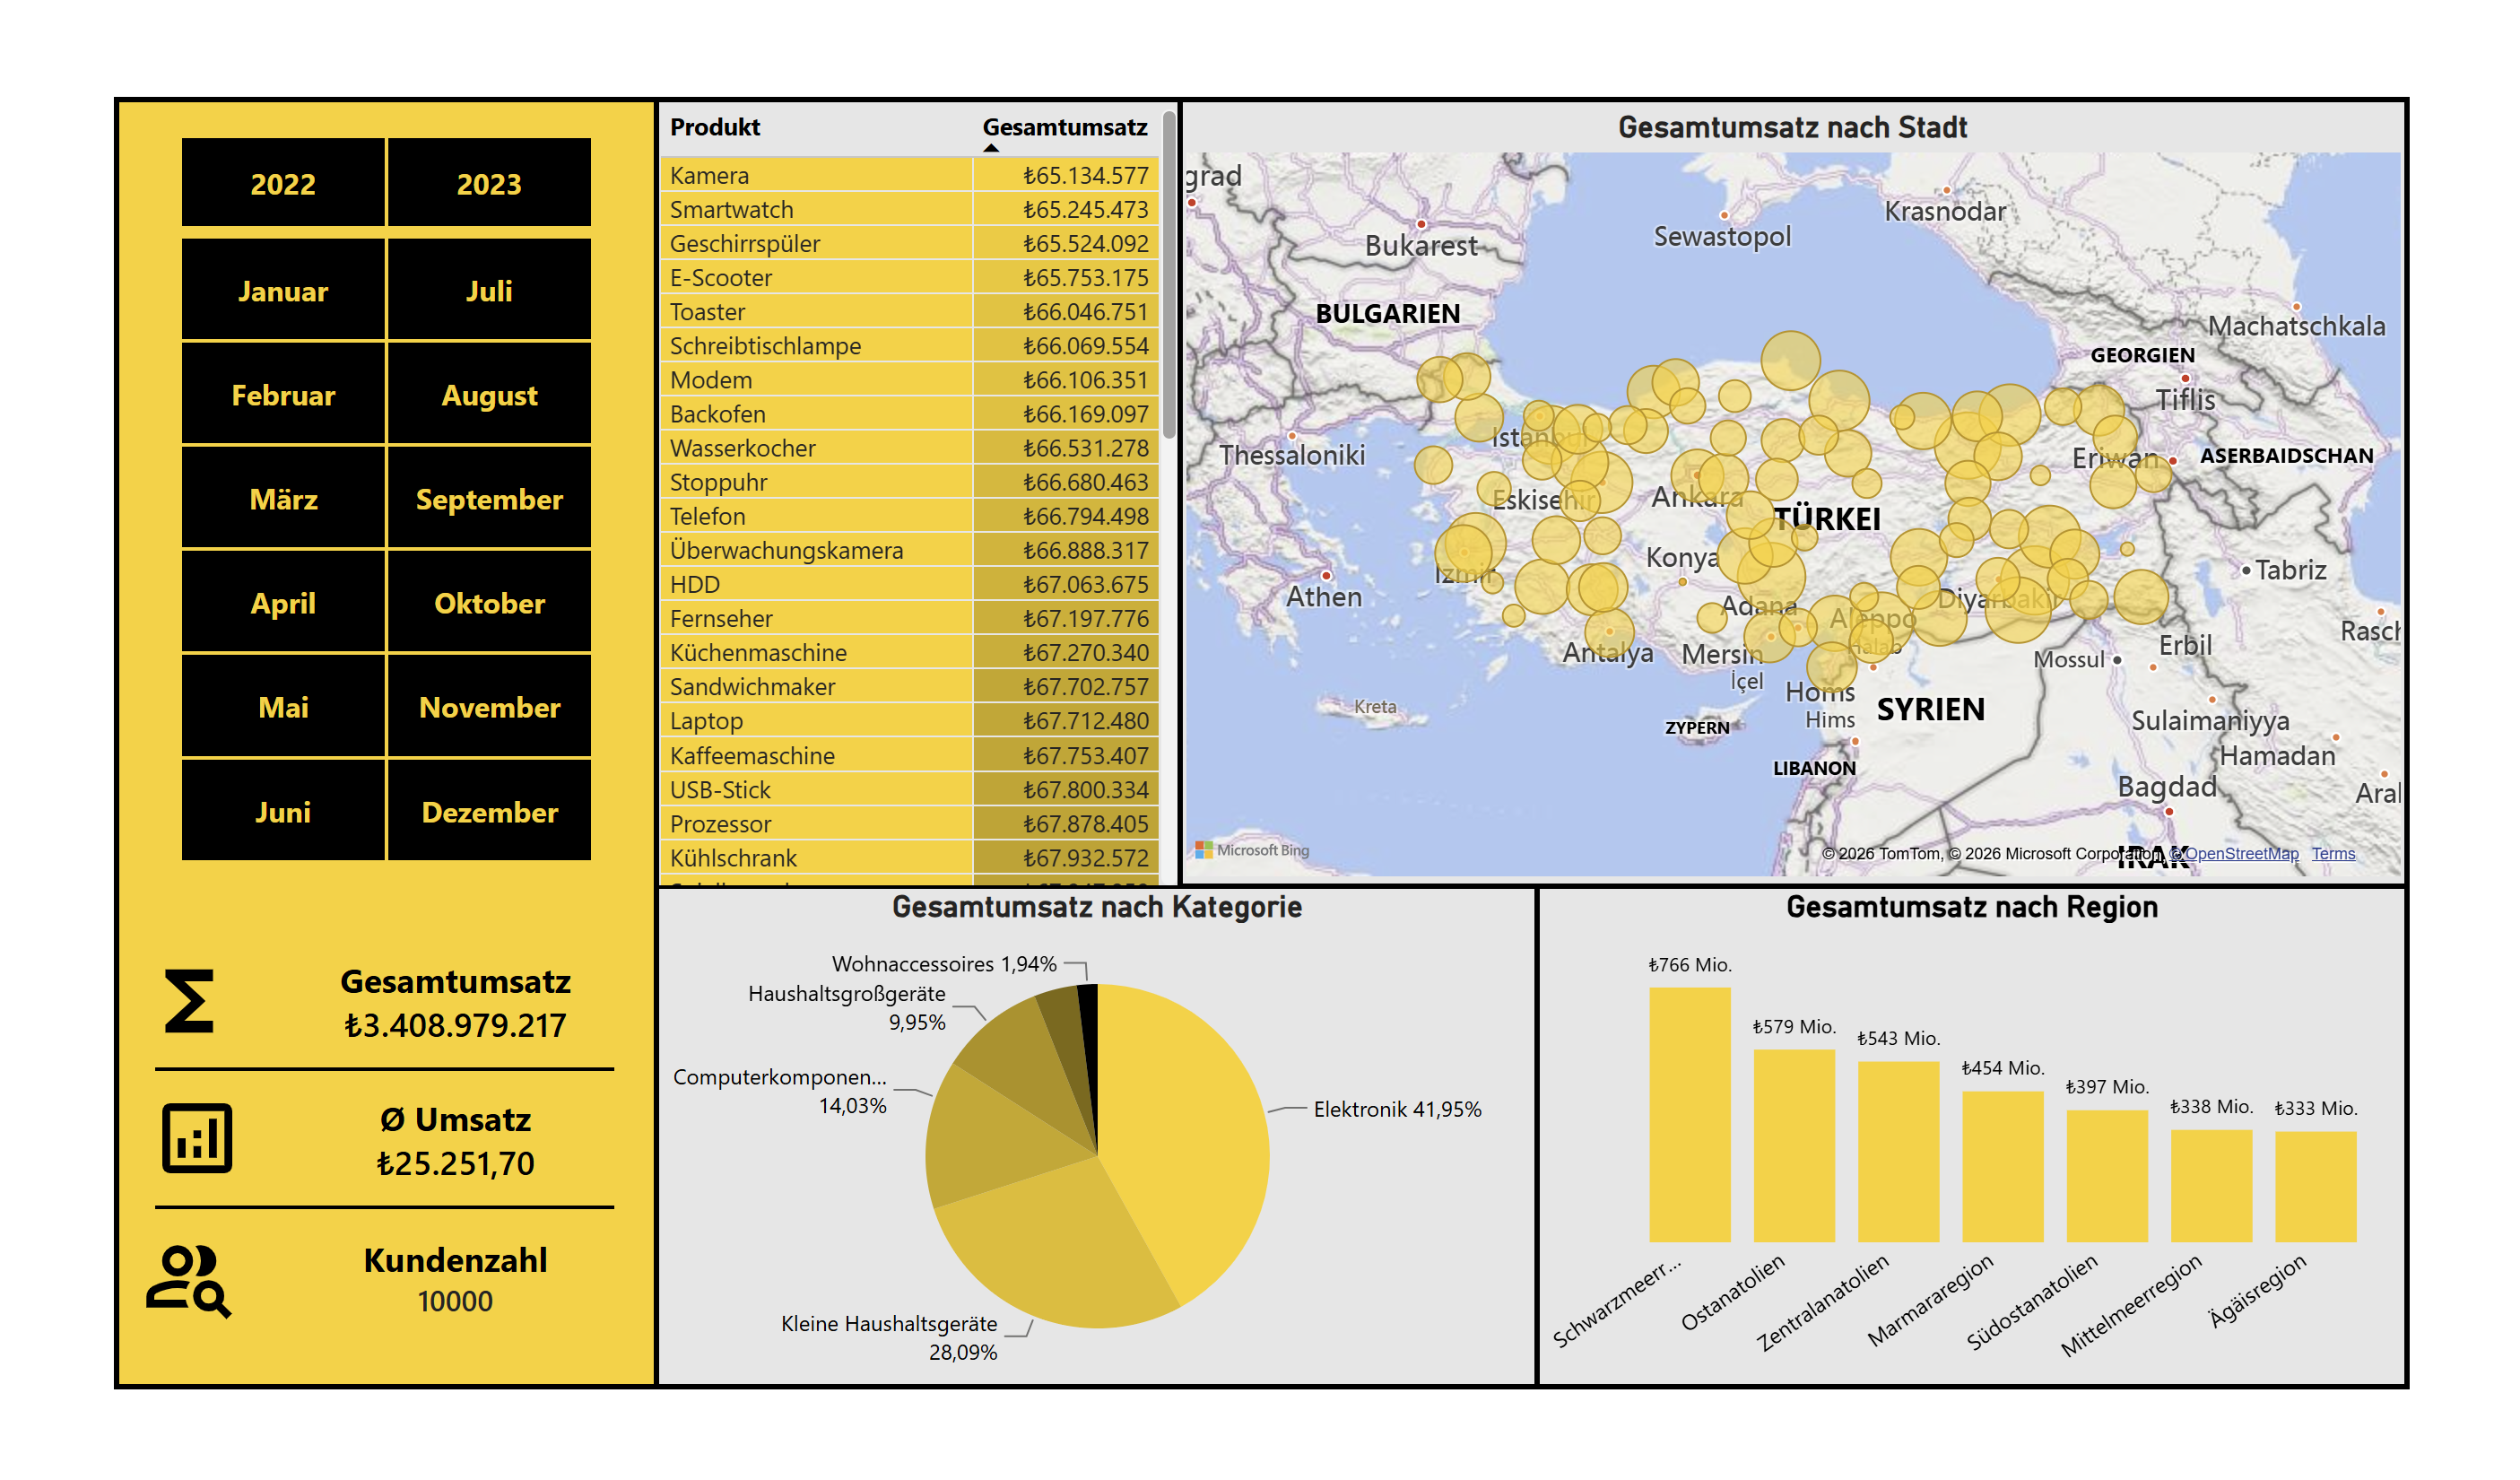

The page's visual inventory and layout, read from the dashboard file:
{"tool":"powerbi","page":{"name":"Page 1","canvas":[1280,720],"ordinal":0},"visuals":[{"type":"shape","box":[297.3,0,306.3,450.4],"z":0},{"type":"shape","box":[593.2,0,686.8,450.1],"z":1000},{"type":"shape","box":[785.1,438.4,494.9,281.2],"z":2000},{"type":"shape","box":[300.3,438.4,494.9,281.2],"z":3000},{"type":"shape","box":[0,0,304.5,720],"z":4000},{"type":"image","box":[5.4,477.3,73.4,52.8],"z":5000},{"type":"image","box":[9.9,554.3,73.4,51.9],"z":6000},{"type":"image","box":[5.4,631.3,73.4,51.9],"z":7000},{"type":"cardVisual","title":"Gesamtumsatz","fields":{"Data":["Sum(umsatz.satis_tutari)","Sum(umsatz.satis_tutari)"]},"box":[82.4,464.8,216.7,77],"z":8000},{"type":"advancedSlicerVisual","fields":{"Values":["umsatz.Monat_DE"]},"box":[37.6,78.8,228.4,349.3],"z":9000,"group":"g1"},{"type":"cardVisual","title":"Gesamtumsatz","fields":{"Data":["Avg(umsatz.satis_tutari)"]},"box":[82.4,541.8,216.7,77],"z":9000},{"type":"cardVisual","title":"Gesamtumsatz","fields":{"Data":["Count(umsatz.musteri_numarasi)"]},"box":[82.4,618.8,216.7,77],"z":10000},{"type":"shape","box":[23.3,530.1,256.1,22.4],"z":11000},{"type":"tableEx","fields":{"Values":["umsatz.Produkt_DE","Sum(umsatz.satis_tutari)"]},"box":[304.5,7.2,288.4,431.6],"z":12000},{"type":"shape","box":[23.3,607.2,256.1,22.4],"z":13000},{"type":"group","id":"g1","title":"Group 1","box":[37.6,23.3,228.4,404.8],"z":14000},{"type":"pieChart","title":"Gesamtumsatz nach Kategorie","fields":{"Category":["kategorien.Kategorie_DE"],"Y":["Sum(umsatz.satis_tutari)"]},"box":[304.5,441.5,488.1,278.5],"z":14001},{"type":"columnChart","title":"Gesamtumsatz nach Region","fields":{"Category":["regionen.Region_DE"],"Y":["Sum(umsatz.satis_tutari)"]},"box":[792.5,441.5,487.2,278.5],"z":14002},{"type":"map","title":"Gesamtumsatz nach Stadt","fields":{"Category":["regionen.il"],"Size":["Sum(umsatz.satis_tutari)"],"X":["Avg(umsatz.Longitude)"],"Y":["Avg(umsatz.Latitude)"]},"box":[592.8,7.2,686.9,431.6],"z":14003},{"type":"advancedSlicerVisual","fields":{"Values":["umsatz.tarih.Variation.Date Hierarchy.Year"]},"box":[37.6,23.3,228.4,49.3],"z":14004,"group":"g1"}]}

Visuals, with their boxes on the page's 1280x720 design canvas (x1, y1, x2, y2). These are canvas units, not pixel positions in the 2520x1480 screenshot, which may show the page scaled, cropped or inside an application window:
shape: 297/0/604/450
shape: 593/0/1280/450
shape: 785/438/1280/720
shape: 300/438/795/720
shape: 0/0/304/720
image: 5/477/79/530
image: 10/554/83/606
image: 5/631/79/683
"Gesamtumsatz" cardVisual: 82/465/299/542
advancedSlicerVisual - umsatz.Monat_DE: 38/79/266/428
"Gesamtumsatz" cardVisual: 82/542/299/619
"Gesamtumsatz" cardVisual: 82/619/299/696
shape: 23/530/279/552
tableEx - umsatz.Produkt_DE x Sum(umsatz.satis_tutari): 304/7/593/439
shape: 23/607/279/630
"Group 1" group: 38/23/266/428
"Gesamtumsatz nach Kategorie" pieChart: 304/442/793/720
"Gesamtumsatz nach Region" columnChart: 792/442/1280/720
"Gesamtumsatz nach Stadt" map: 593/7/1280/439
advancedSlicerVisual - umsatz.tarih.Variation.Date Hierarchy.Year: 38/23/266/73
